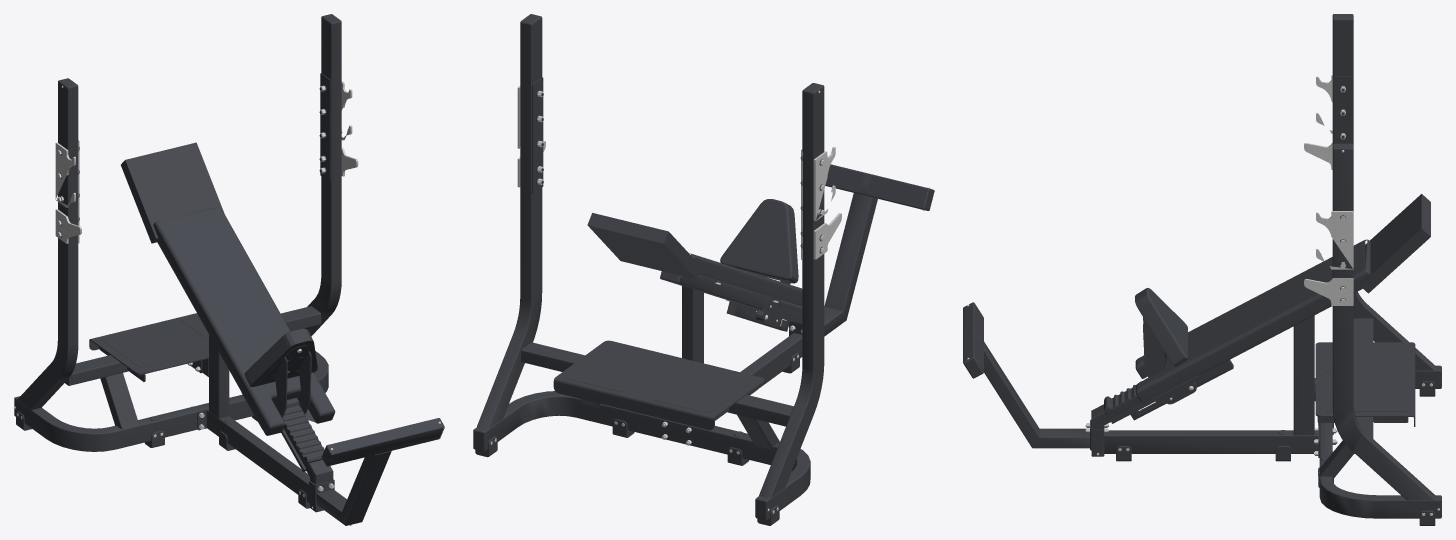
File: olympic-incline-bench-grok.glb
3 views of the same model, side by side, from view 1: azimuth 30°, elevation 25°; view 2: azimuth 150°, elevation 25°; view 3: azimuth 270°, elevation 25° (orthographic). The views are drawn at different scales.
Parts seen in each view (by area): view 1: bench; view 2: bench; view 3: bench.
Boxes of the visible parts, x1,y1,x2,y2 form: bench: [14, 14, 444, 525]; bench: [473, 14, 934, 525]; bench: [963, 14, 1441, 525].
Size of the model in its own units: 1.27 by 1.6 by 1.84.
3 materials, 1 textured.
